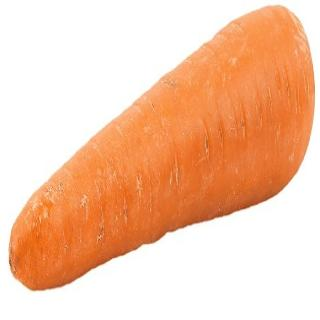Wortel: (5, 5, 320, 314)
